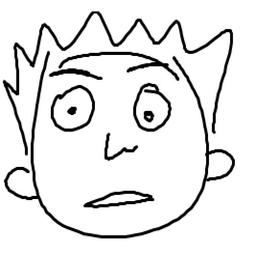ear: (2, 162, 40, 204), (202, 144, 240, 183)
eye: (46, 81, 101, 136), (130, 79, 174, 135)
eyebrow: (47, 64, 108, 82)
frowning_eyebrow: (122, 60, 161, 75)
nose: (99, 129, 139, 162)
open_mouth: (81, 185, 159, 217)
